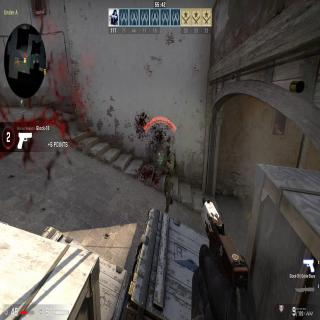CT-Body: (156, 139, 178, 209)
CT-Head: (161, 141, 172, 156)
